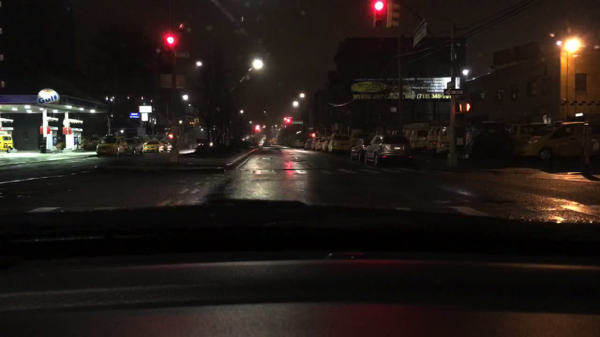car: (364, 134, 413, 169), (94, 133, 126, 158), (349, 134, 373, 160), (329, 133, 353, 153), (125, 137, 145, 153), (0, 134, 15, 153), (141, 140, 162, 153), (81, 139, 97, 152), (312, 138, 325, 151), (301, 139, 312, 149), (163, 140, 172, 151), (291, 139, 303, 147), (321, 139, 329, 151), (285, 138, 291, 146)
traffic light: (374, 1, 387, 30), (389, 3, 401, 28), (165, 35, 175, 60), (456, 103, 464, 112), (466, 103, 473, 113), (285, 120, 292, 128), (254, 126, 259, 136), (169, 134, 173, 139)
traffic sign: (411, 22, 426, 51), (161, 74, 186, 89), (443, 90, 463, 97), (174, 51, 190, 58), (445, 82, 455, 89)
truck: (521, 123, 599, 160), (506, 122, 554, 155), (437, 124, 468, 155), (404, 128, 427, 149), (426, 124, 440, 153)
